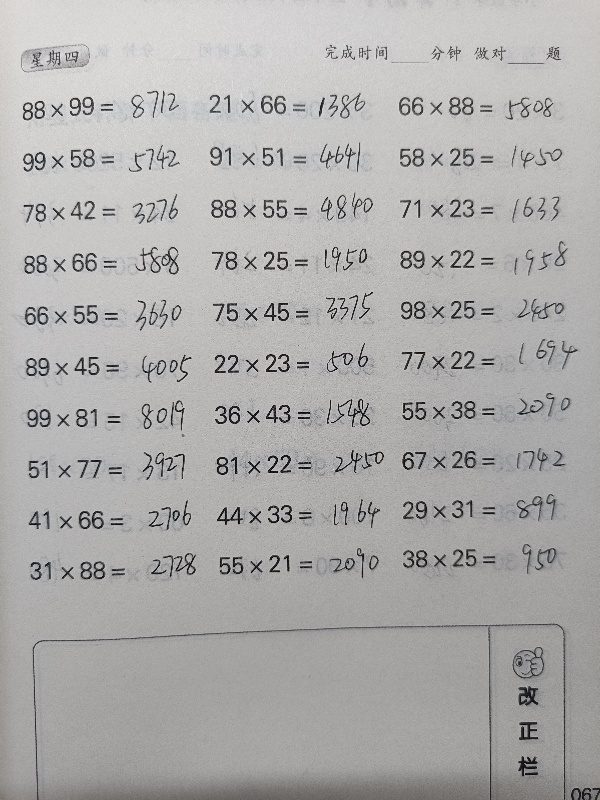equation: (392, 336, 588, 384), (206, 392, 386, 437), (201, 135, 381, 180), (202, 188, 382, 230), (393, 491, 573, 526), (15, 297, 195, 332), (15, 245, 195, 280), (15, 193, 195, 228), (14, 141, 194, 176), (390, 89, 570, 124), (13, 90, 193, 125), (391, 292, 584, 324), (22, 554, 202, 588), (210, 547, 390, 581), (394, 541, 574, 575), (20, 503, 200, 537), (208, 497, 388, 531), (20, 452, 200, 486), (205, 447, 385, 481), (392, 443, 572, 477), (18, 401, 198, 435), (393, 393, 573, 427), (16, 349, 196, 383), (205, 346, 385, 380), (205, 295, 385, 329), (204, 244, 384, 278), (391, 242, 571, 276), (392, 192, 572, 226), (391, 141, 571, 175), (200, 87, 380, 121)
